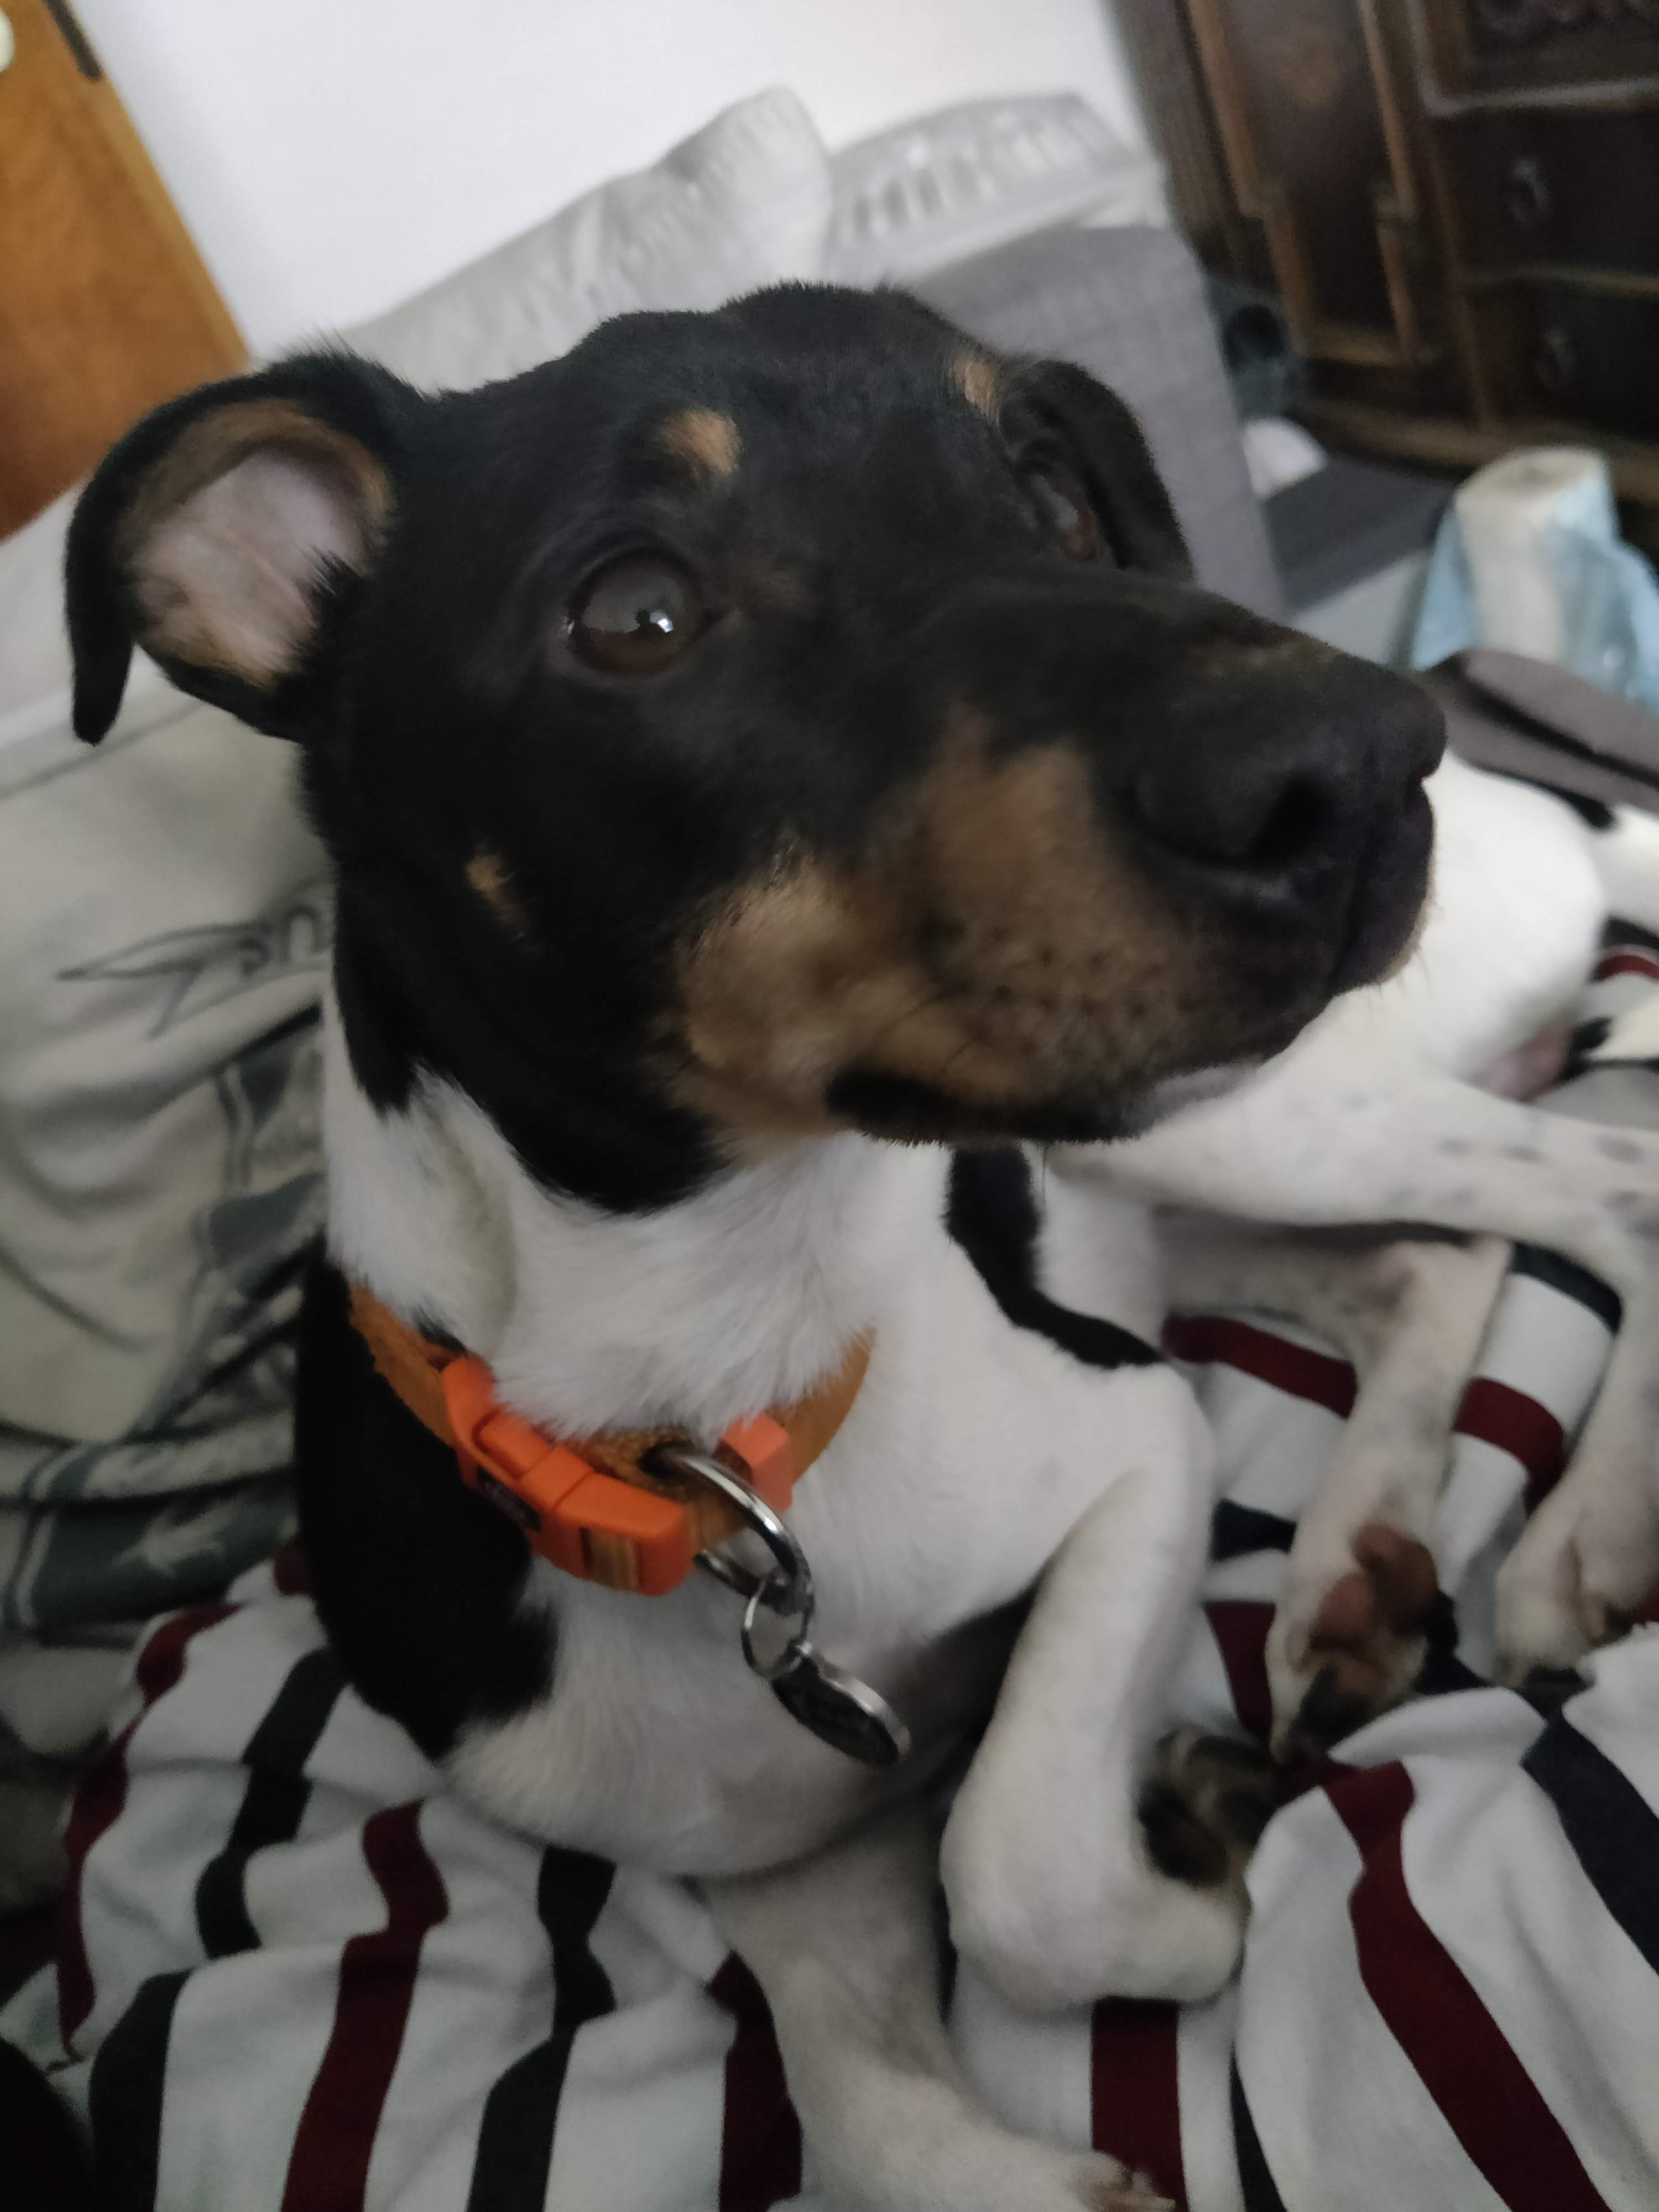Dog: (56, 256, 1659, 2212)
